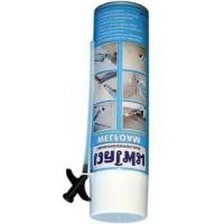aerosol_cans: (83, 1, 156, 223)
